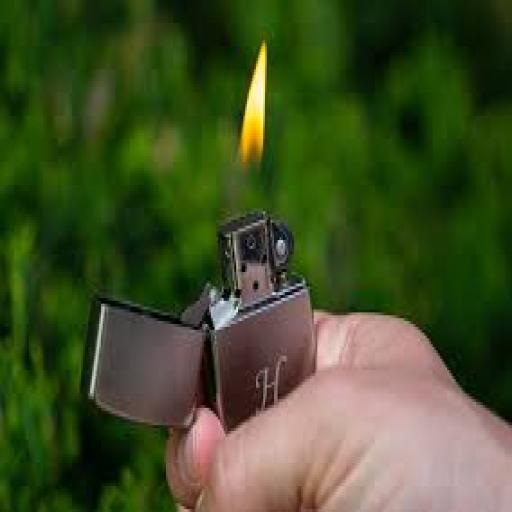fire: (224, 32, 278, 217)
